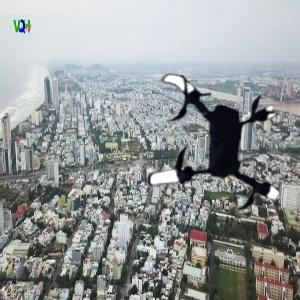drone: (124, 61, 295, 232)
